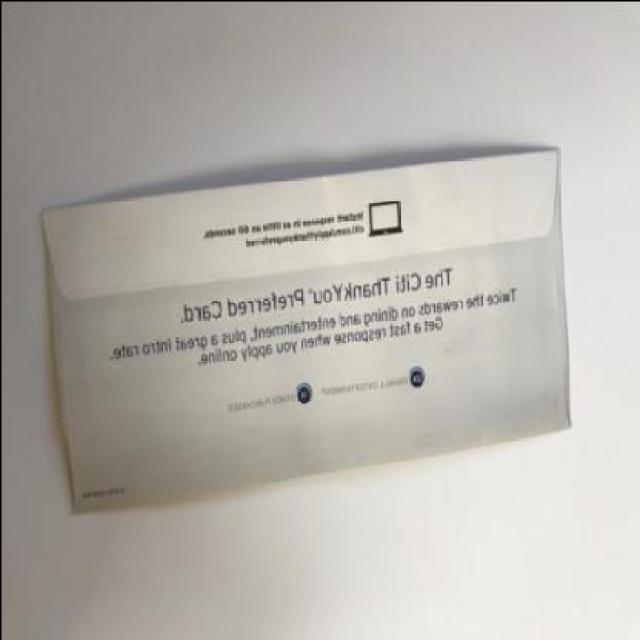PAPER: (42, 145, 570, 512)
